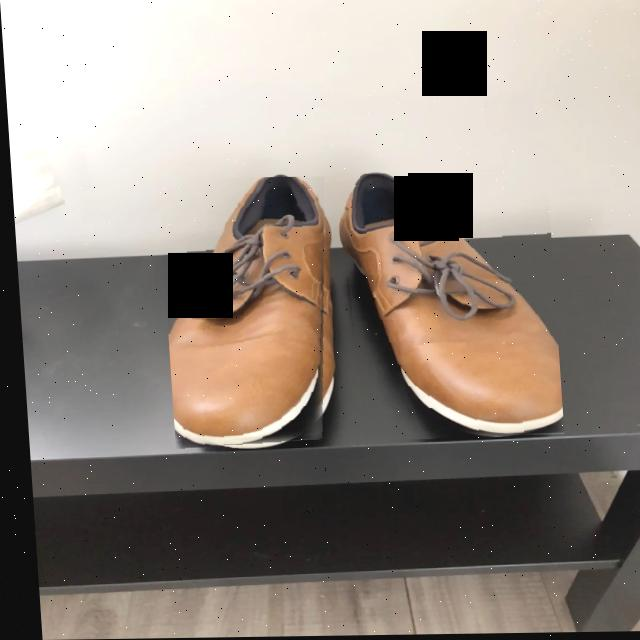shoe: (340, 175, 557, 438), (164, 178, 322, 448)
